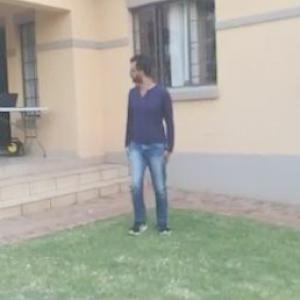follow: (116, 45, 177, 248)
